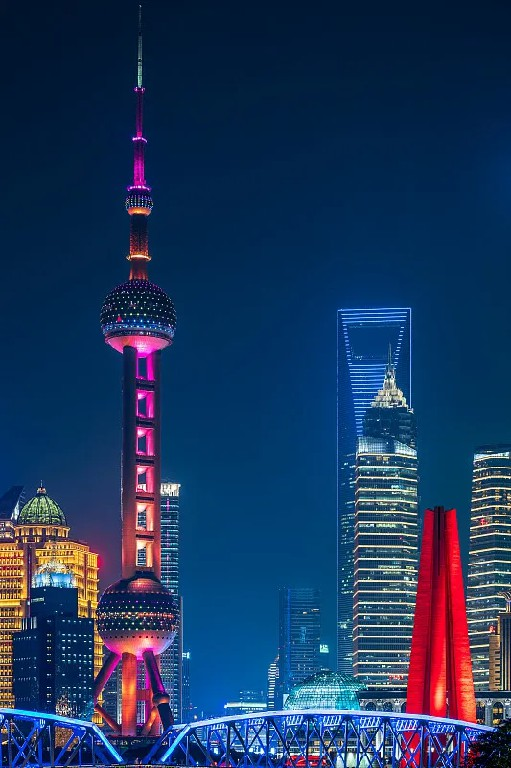Oriental: (94, 4, 182, 741)
